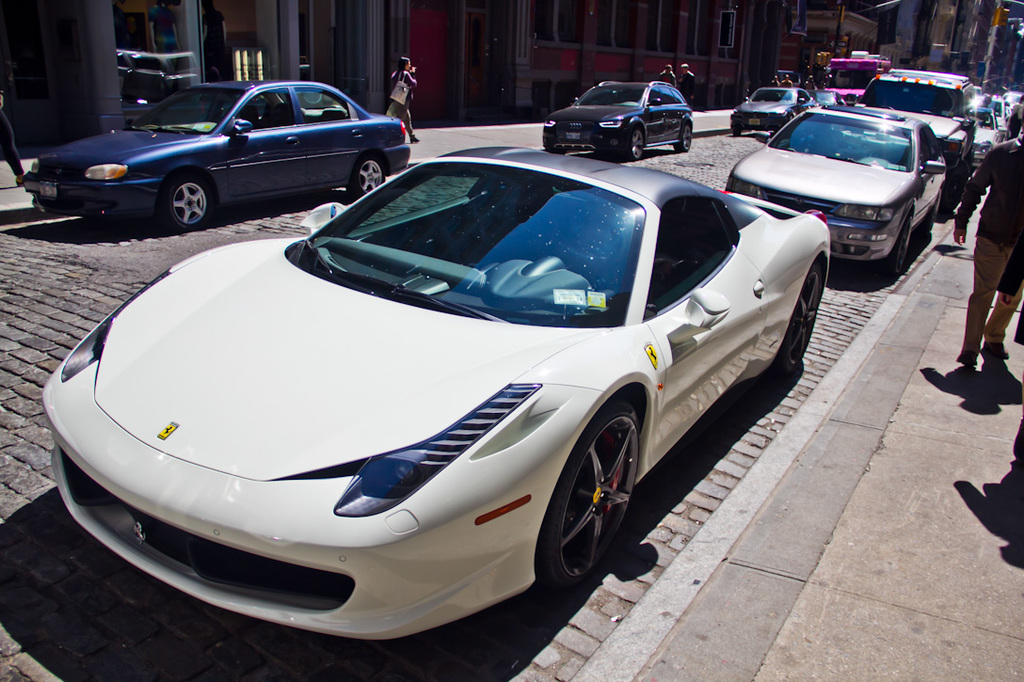Car: (21, 50, 1024, 639)
